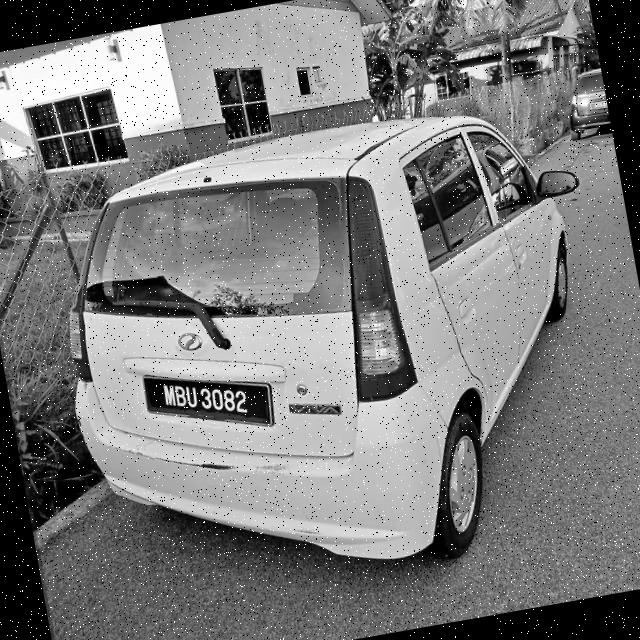License_Plate: (140, 360, 267, 437)
